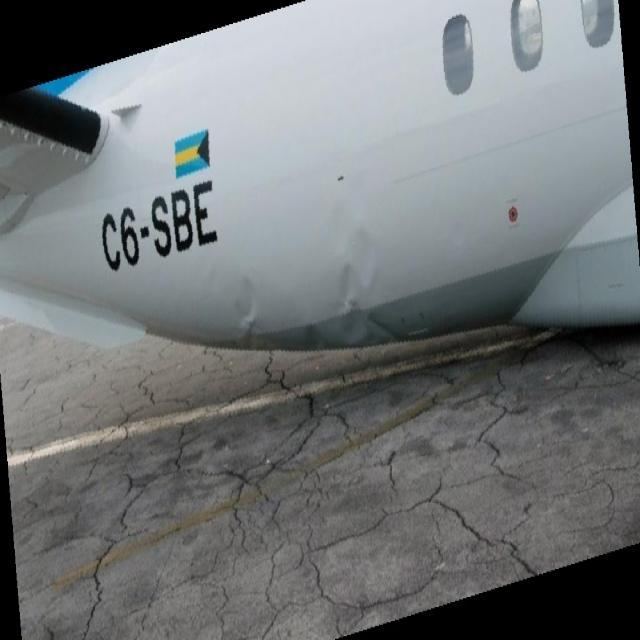dent: (322, 171, 385, 368), (222, 266, 272, 361)
